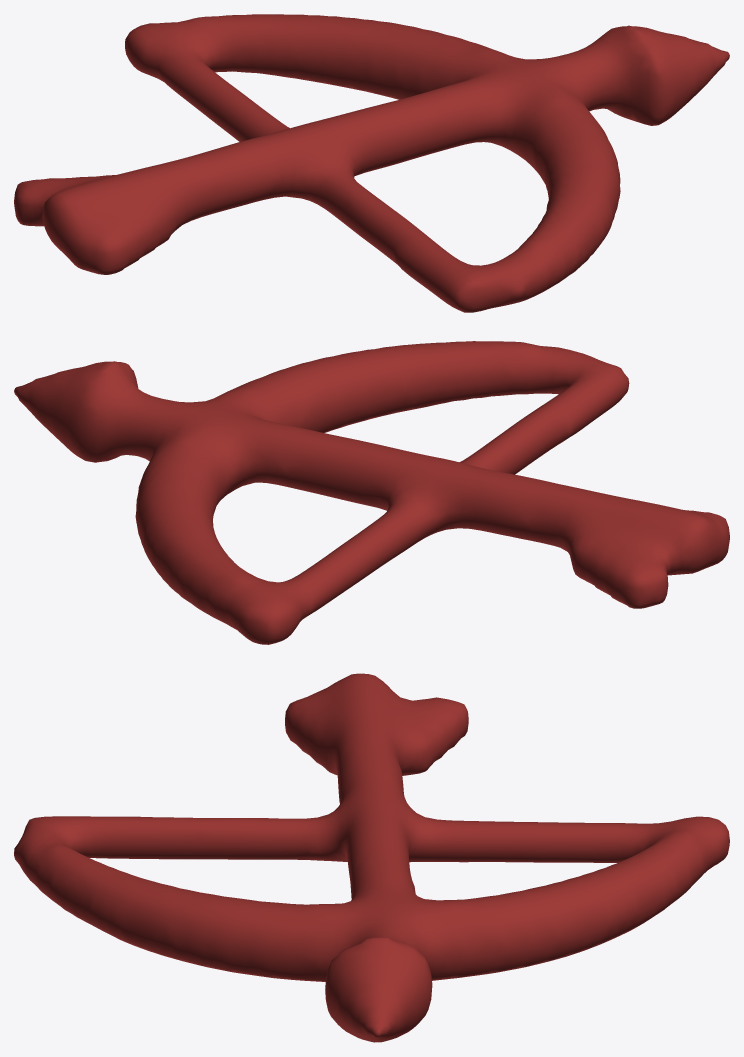
Rendered from decoration-archer.glb.
3 renders of one model, top to bottom at view 1: azimuth 30°, elevation 25°; view 2: azimuth 150°, elevation 25°; view 3: azimuth 270°, elevation 25°, orthographic.
Parts seen in each view (by area): view 1: decoration_archer; view 2: decoration_archer; view 3: decoration_archer.
Part boxes in pixels (bbox=[...]): decoration_archer: bbox=[14, 14, 729, 312]; decoration_archer: bbox=[14, 341, 729, 644]; decoration_archer: bbox=[14, 673, 729, 1042].
Size of the model in its own units: 0.2139 by 0.0246 by 0.1916.
